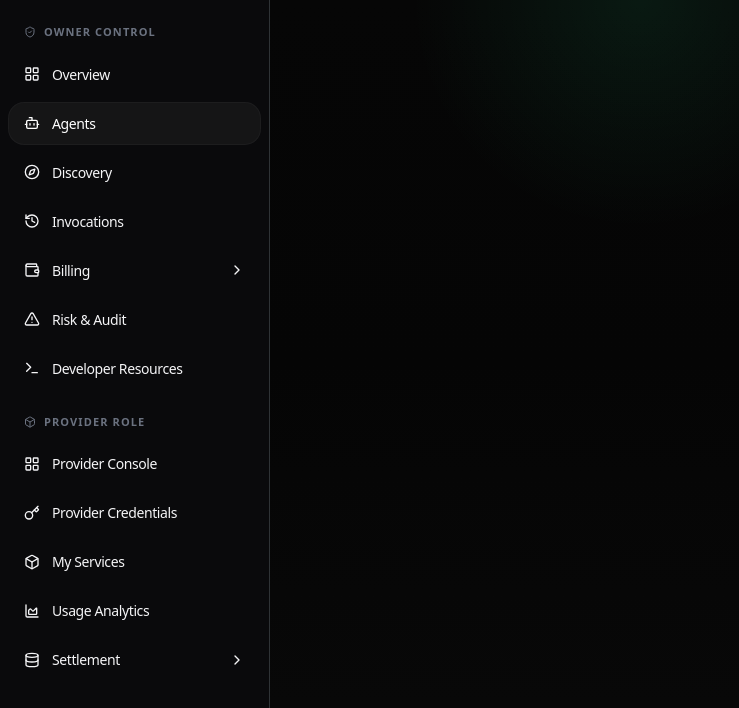
it: DashboardSidebar › renders settlement group with withdraw sub-links before account
This screenshot has width=739, height=708.
Click the button "Settlement" at [134, 660], box [8, 638, 261, 681]
(page scrolled)
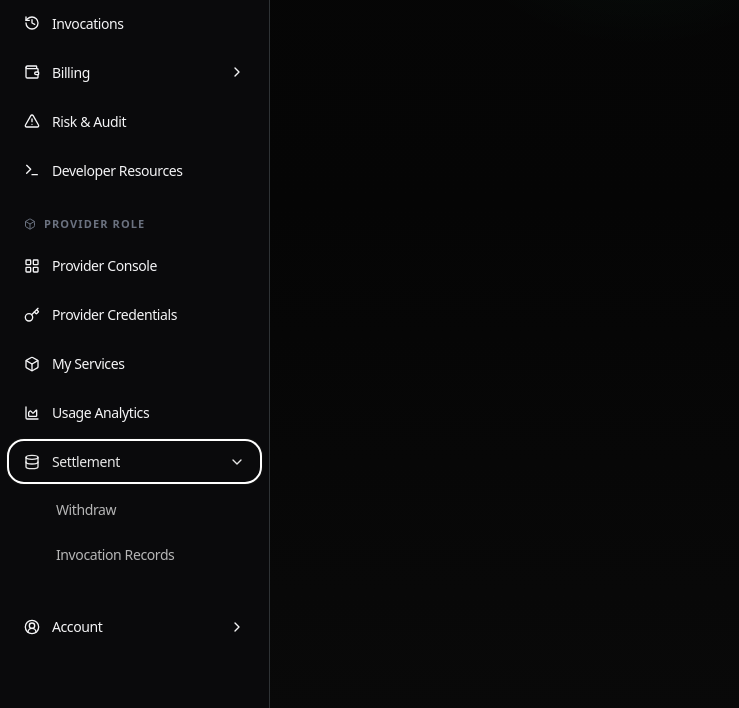
expect the button "Account" is shown: met, box [8, 605, 261, 648]
expect the link "Invocation Records" is shown: met, box [56, 545, 174, 564]
